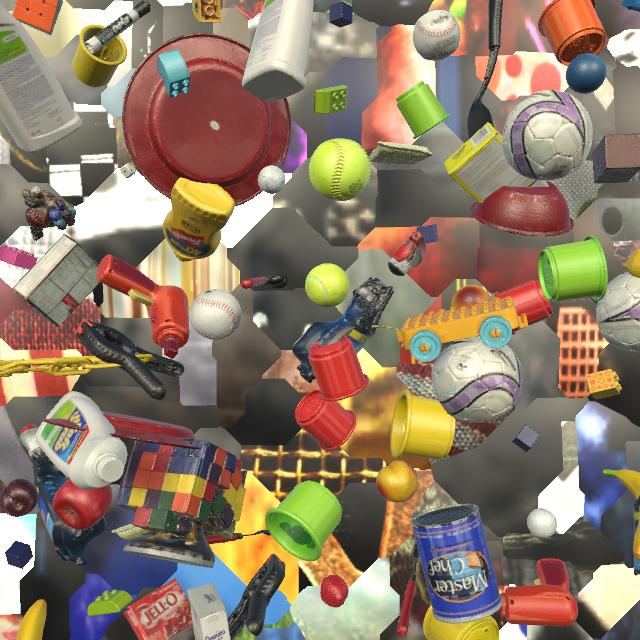ycb_002_master_chef_can: (411, 504, 503, 623)
ycb_004_sugar_box: (444, 122, 549, 236), (187, 583, 231, 640)
ycb_006_mustard_bottle: (163, 178, 235, 262)
ycb_008_pudding_box: (12, 234, 100, 327)
ycb_009_gelatin_box: (123, 578, 193, 640)
ycb_011_banana: (603, 469, 640, 560), (16, 599, 47, 640)
ycb_012_strawberry: (320, 575, 348, 608)
ycb_013_apple: (53, 479, 112, 530)
ycb_014_lemon: (624, 249, 640, 278)
ycb_015_peach: (376, 460, 418, 503), (451, 285, 492, 310)
ycb_018_plum: (0, 479, 39, 517)
